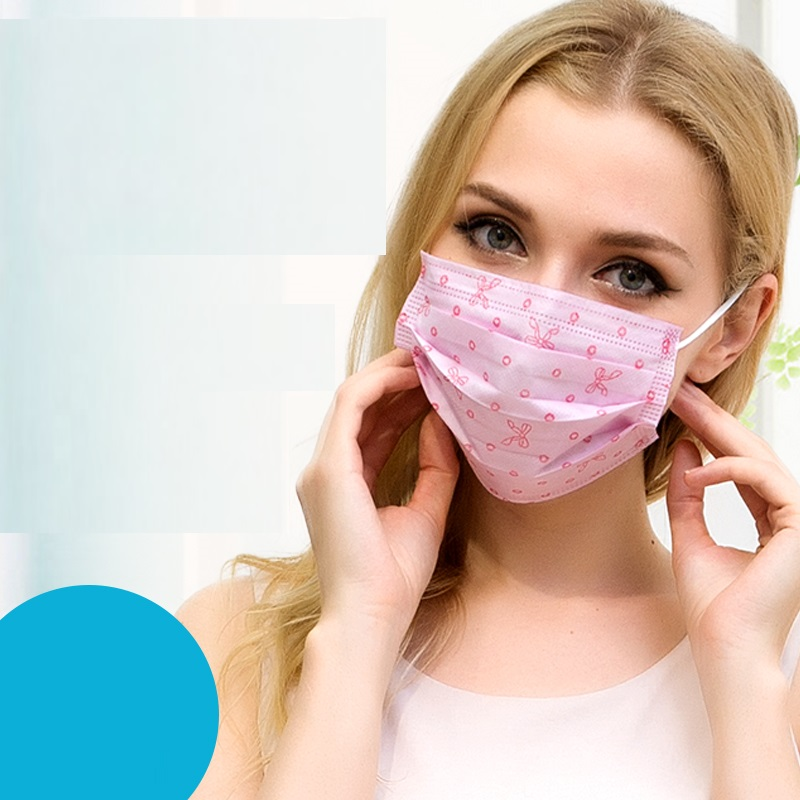face_mask: (414, 98, 711, 503)
